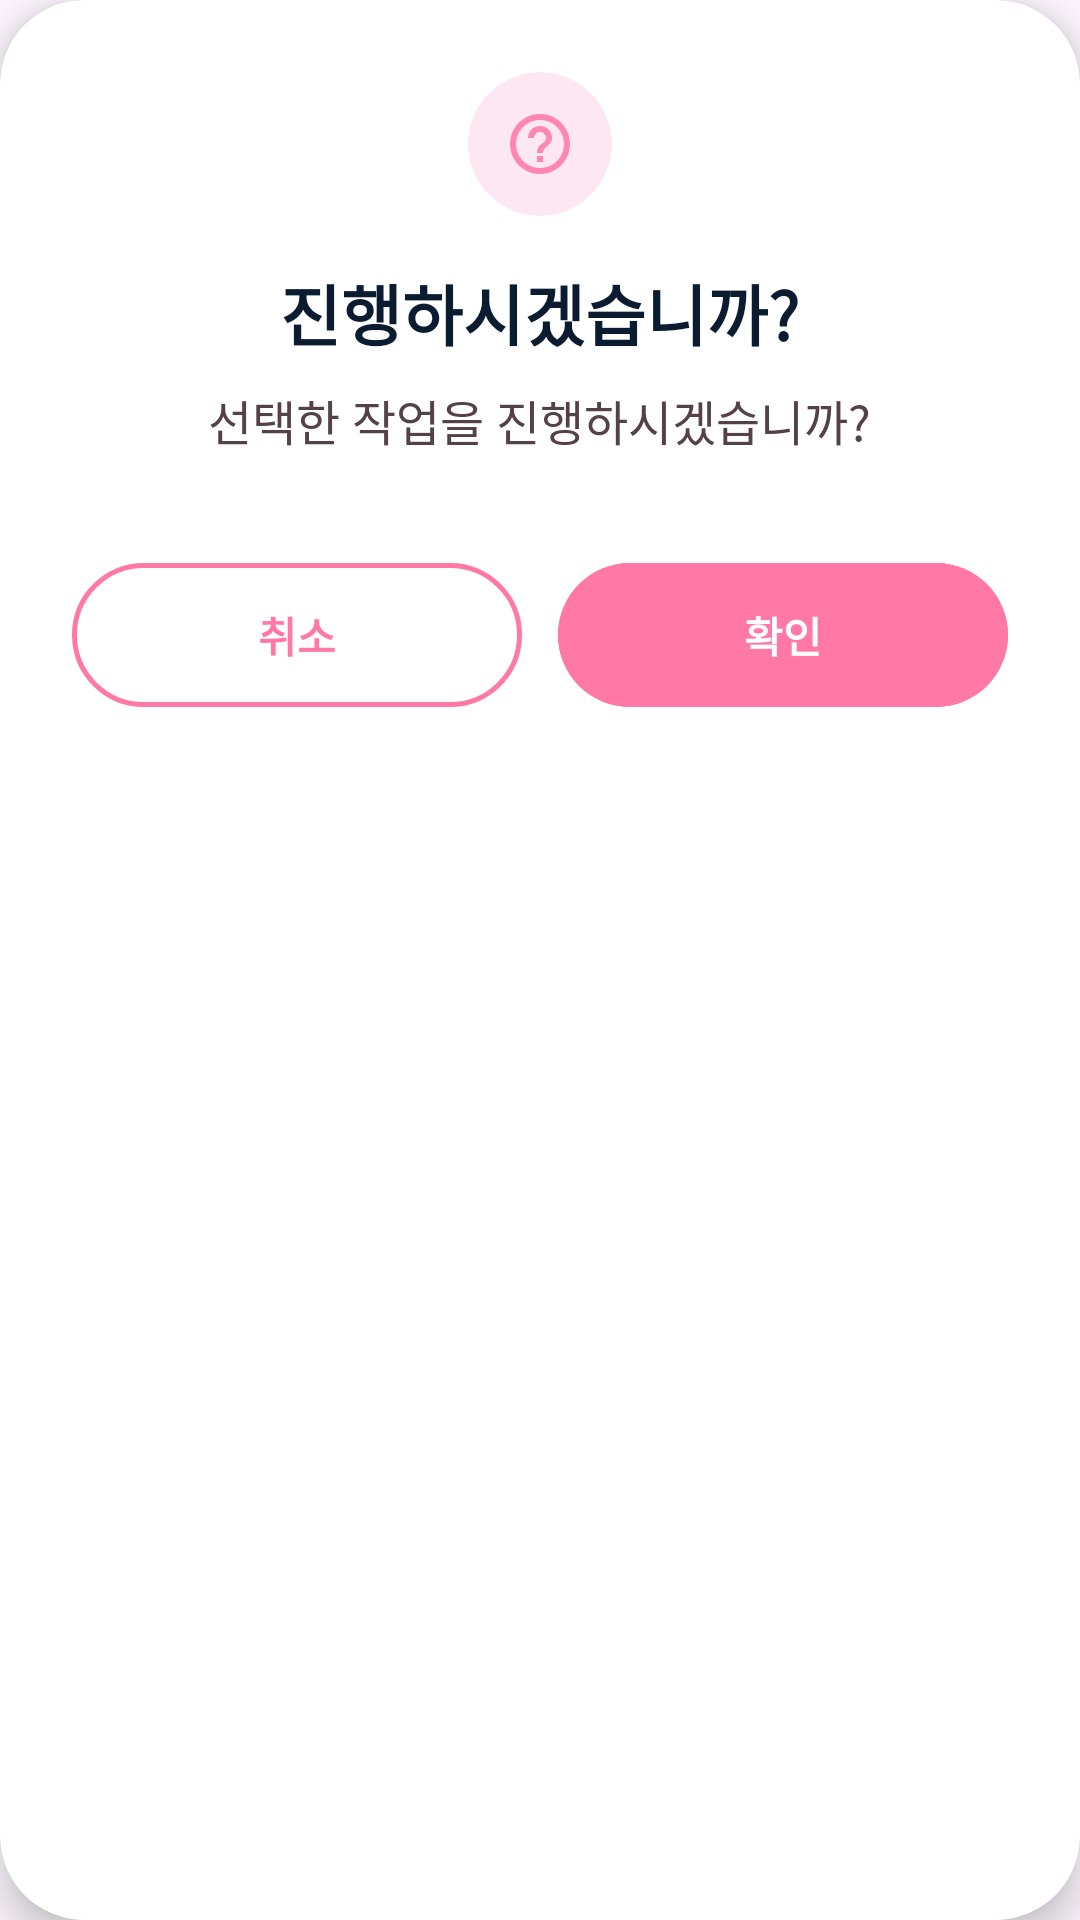

Where icons sit on this 1080 x 1920 app screen, as (x1, y1, x2, y2):
help: (510, 114, 570, 174)
